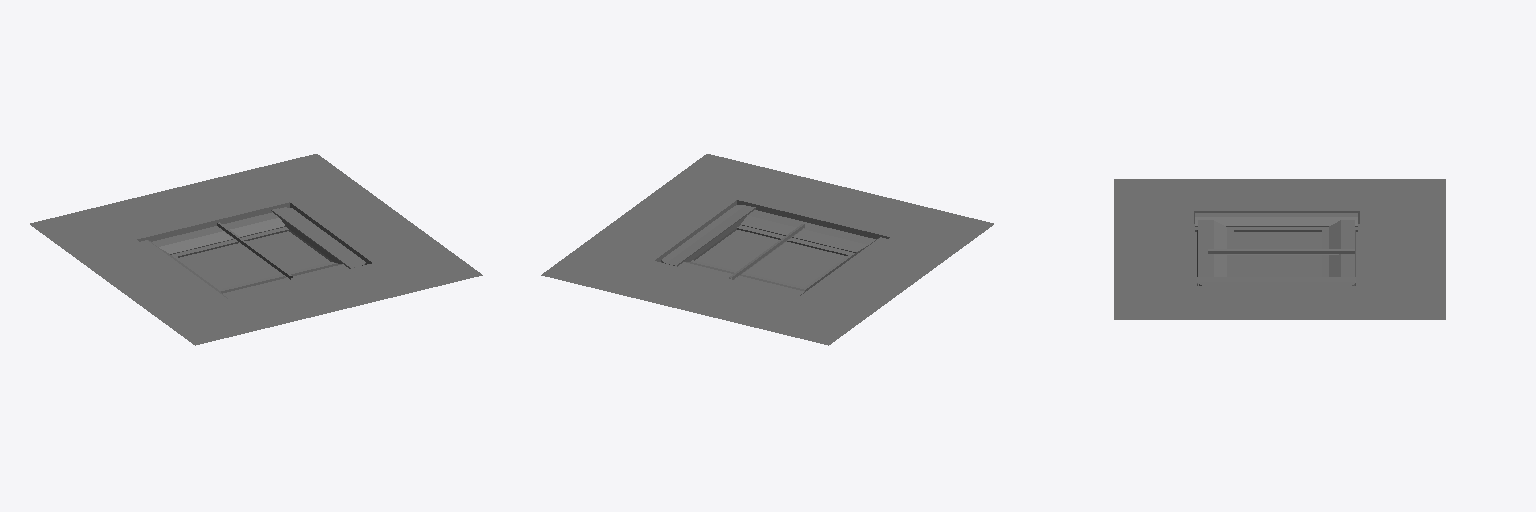
The model's file is windowplane.obj.
The picture shows the model from 3 angles: view 1: azimuth 30°, elevation 25°; view 2: azimuth 150°, elevation 25°; view 3: azimuth 270°, elevation 25°; orthographic projection.
Visible parts, largest first — view 1: pPlane4, windowplane3:group2polySurface1756; view 2: pPlane4, windowplane3:group2polySurface1756; view 3: pPlane4, windowplane3:group2polySurface1756.
Boxes of the visible parts, box(x1,y1,x2,y2) form: pPlane4: box(30, 154, 482, 345); windowplane3:group2polySurface1756: box(141, 207, 365, 299); pPlane4: box(541, 154, 993, 345); windowplane3:group2polySurface1756: box(661, 205, 886, 297); pPlane4: box(1114, 179, 1445, 319); windowplane3:group2polySurface1756: box(1195, 213, 1357, 285).
Bounding box in the file's own units: 1 × 0.0426 × 1.